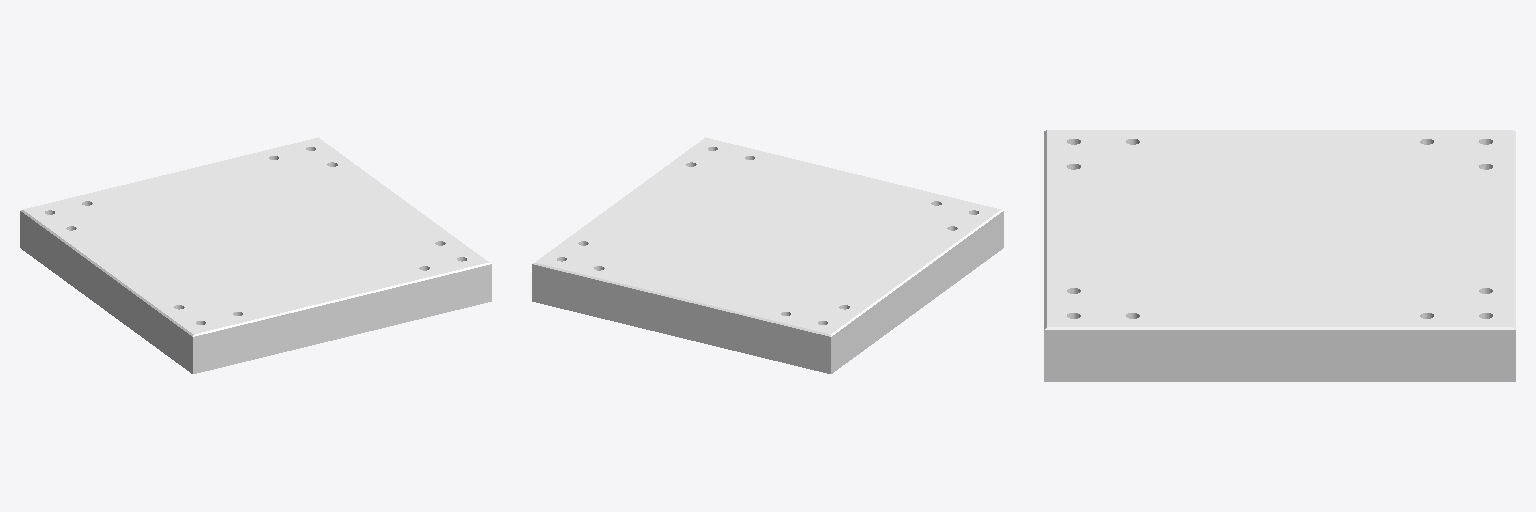
robot.urdf — robot_arm_base_link:
<robot name="robot_arm_base_link">
  <link
    name="robot_arm_base_link">
    <inertial>
      <origin
        xyz="-1.6763E-18 -8.6736E-19 0.012495"
        rpy="0 0 0" />
      <mass
        value="0.99054" />
      <inertia
        ixx="0.0033344"
        ixy="-3.6106E-19"
        ixz="2.3535E-20"
        iyy="0.0033344"
        iyz="-2.0925E-20"
        izz="0.0065658" />
    </inertial>
    <visual>
      <origin
        xyz="0 0 0"
        rpy="0 0 0" />
      <geometry>
        <mesh
          filename="package://robot_arm_base_link/meshes/robot_arm_base_link.STL" />
      </geometry>
      <material
        name="">
        <color
          rgba="1 1 1 1" />
      </material>
    </visual>
    <collision>
      <origin
        xyz="0 0 0"
        rpy="0 0 0" />
      <geometry>
        <mesh
          filename="package://robot_arm_base_link/meshes/robot_arm_base_link.STL" />
      </geometry>
    </collision>
  </link>
</robot>

--- Render facts (derived) ---
3 views of the same robot in one strip: view 1: azimuth 30°, elevation 25°; view 2: azimuth 150°, elevation 25°; view 3: azimuth 270°, elevation 25° (orthographic).
Robot: robot_arm_base_link — 1 links, 0 joints (none); root link robot_arm_base_link; default pose: every joint at zero.
Visible links, largest first — view 1: robot_arm_base_link; view 2: robot_arm_base_link; view 3: robot_arm_base_link.
Boxes of the visible links, x1,y1,x2,y2 form: robot_arm_base_link: (20, 137, 491, 373); robot_arm_base_link: (532, 137, 1003, 373); robot_arm_base_link: (1044, 130, 1515, 381).
Size in the robot's own frame: 0.2 by 0.2 by 0.025 metres.
Meshes: 1 distinct files referenced, 1 mesh visuals loaded (1 binary STL).
